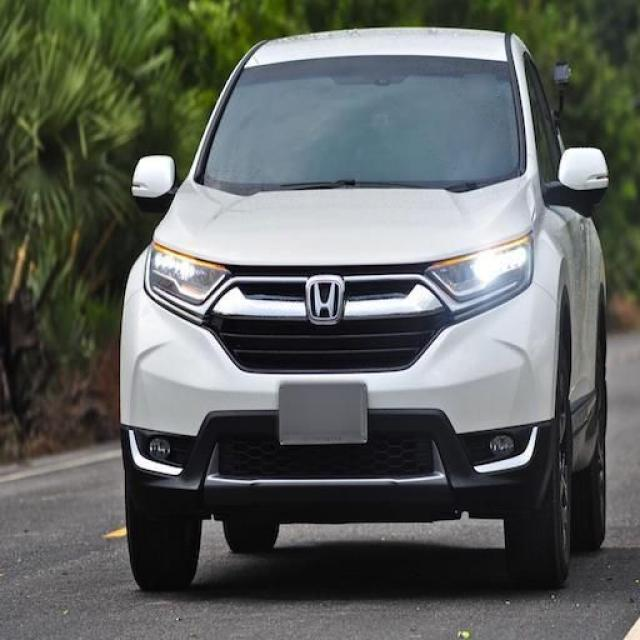front_bumper: (120, 260, 560, 519)
front_glass: (193, 54, 520, 196)
front_left_light: (428, 234, 533, 302)
front_right_light: (151, 244, 232, 305)
hood: (154, 173, 538, 267)
left_mirror: (546, 148, 609, 207)
right_mirror: (132, 155, 180, 212)
wheel: (505, 346, 571, 585), (124, 497, 203, 591), (571, 344, 606, 547), (223, 522, 280, 554)
